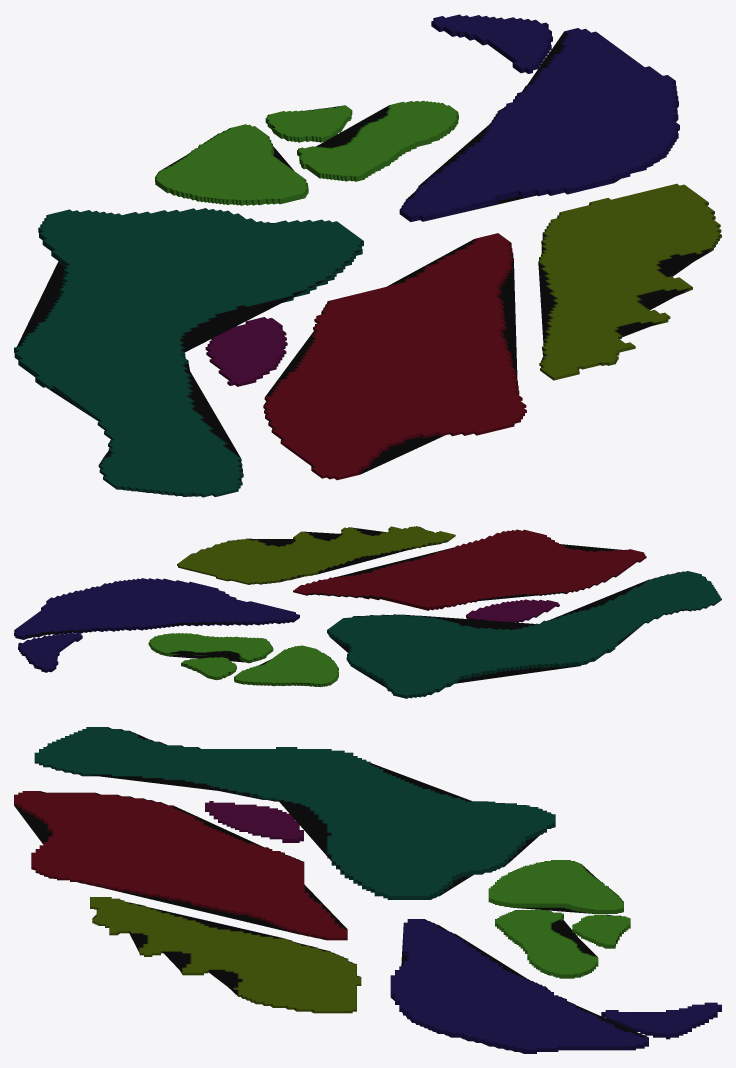
Rendered from ATO1.fbx.
The picture shows the model from 3 angles, top to bottom: view 1: azimuth 30°, elevation 25°; view 2: azimuth 150°, elevation 25°; view 3: azimuth 270°, elevation 25°; orthographic projection. The views are drawn at different scales.
Parts seen in each view (by area): view 1: XIMBA-5, XIMBA-6, XIMBA-7, XIMBA-0, XIMBA-3, XIMBA-8-MAPA_-_XIMBA, XIMBA-4, XIMBA-1, XIMBA-2; view 2: XIMBA-5, XIMBA-6, XIMBA-7, XIMBA-0, XIMBA-3, XIMBA-8-MAPA_-_XIMBA, XIMBA-4, XIMBA-1, XIMBA-2; view 3: XIMBA-5, XIMBA-6, XIMBA-7, XIMBA-0, XIMBA-3, XIMBA-8-MAPA_-_XIMBA, XIMBA-4, XIMBA-1, XIMBA-2.
Boxes of the visible parts, x1=… form: XIMBA-5: x1=14, y1=208, x2=363, y2=497; XIMBA-6: x1=263, y1=233, x2=526, y2=480; XIMBA-7: x1=399, y1=28, x2=679, y2=221; XIMBA-0: x1=538, y1=183, x2=721, y2=380; XIMBA-3: x1=155, y1=124, x2=308, y2=205; XIMBA-8-MAPA_-_XIMBA: x1=297, y1=100, x2=458, y2=181; XIMBA-4: x1=205, y1=317, x2=287, y2=386; XIMBA-1: x1=431, y1=14, x2=552, y2=73; XIMBA-2: x1=265, y1=105, x2=352, y2=142; XIMBA-5: x1=327, y1=571, x2=721, y2=698; XIMBA-6: x1=293, y1=529, x2=646, y2=610; XIMBA-7: x1=14, y1=578, x2=299, y2=639; XIMBA-0: x1=177, y1=526, x2=455, y2=584; XIMBA-3: x1=234, y1=645, x2=338, y2=687; XIMBA-8-MAPA_-_XIMBA: x1=148, y1=633, x2=273, y2=663; XIMBA-4: x1=466, y1=599, x2=559, y2=622; XIMBA-1: x1=18, y1=632, x2=82, y2=672; XIMBA-2: x1=181, y1=657, x2=236, y2=680; XIMBA-5: x1=34, y1=727, x2=555, y2=899; XIMBA-6: x1=14, y1=791, x2=347, y2=940; XIMBA-7: x1=390, y1=919, x2=648, y2=1053; XIMBA-0: x1=90, y1=897, x2=361, y2=1013; XIMBA-3: x1=488, y1=860, x2=623, y2=913; XIMBA-8-MAPA_-_XIMBA: x1=495, y1=909, x2=598, y2=978; XIMBA-4: x1=205, y1=801, x2=303, y2=842; XIMBA-1: x1=601, y1=1002, x2=721, y2=1039; XIMBA-2: x1=572, y1=914, x2=630, y2=948.
Bounding box in the file's own units: 3552 × 20 × 3290.
9 materials, 9 textured.
